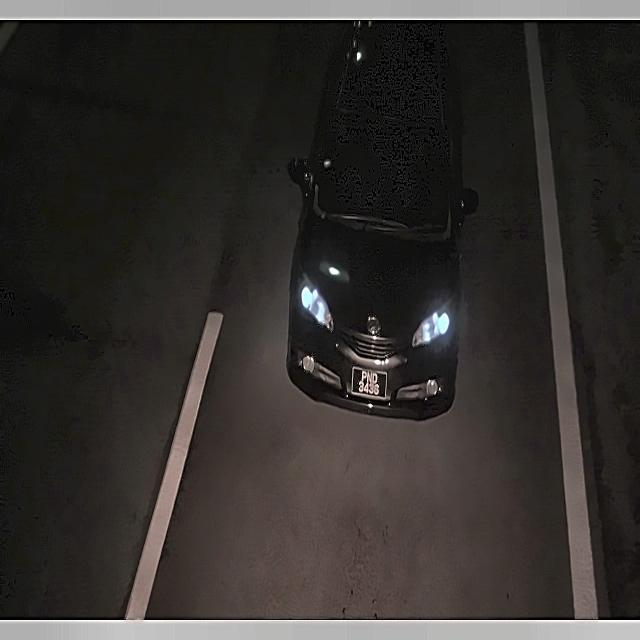car: (344, 356, 397, 408)
